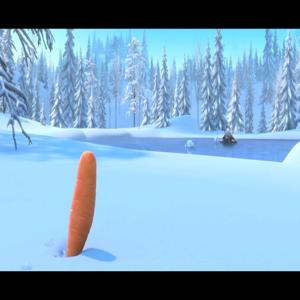carrot: (63, 138, 108, 259)
